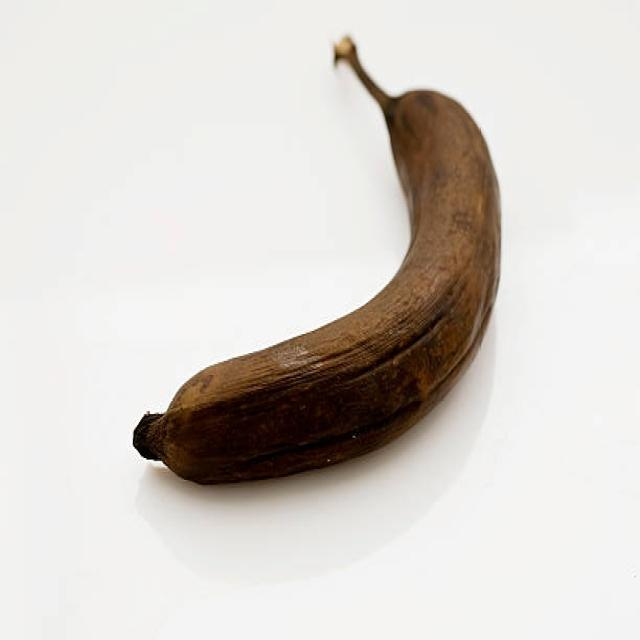Rotten: (131, 33, 501, 486)
